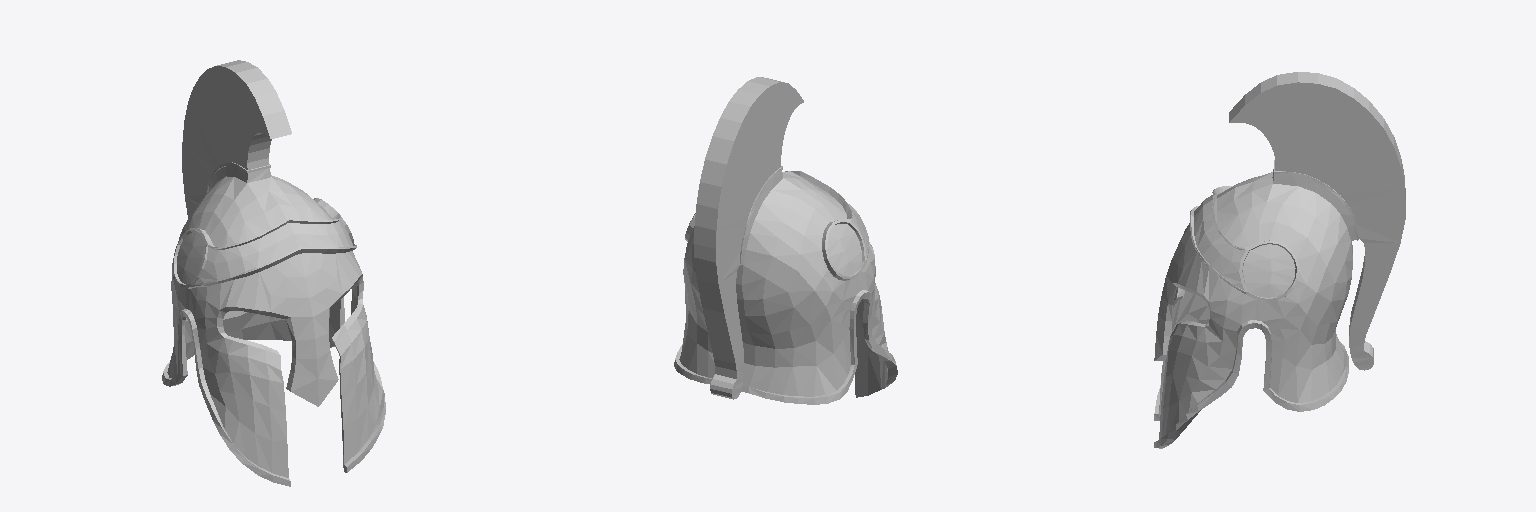
Rendered from elmo_3.obj.
3 renders of one model, left to right at view 1: azimuth 30°, elevation 25°; view 2: azimuth 150°, elevation 25°; view 3: azimuth 270°, elevation 25°, orthographic.
Visible parts, largest first — view 1: sparta_low_Mesh; view 2: sparta_low_Mesh; view 3: sparta_low_Mesh.
Part boxes in pixels (left/top/right/bottom): sparta_low_Mesh: left=162, top=60, right=385, bottom=486; sparta_low_Mesh: left=674, top=77, right=897, bottom=404; sparta_low_Mesh: left=1154, top=72, right=1405, bottom=448.
Bounding box in the file's own units: 0.1999 × 0.4046 × 0.2578.